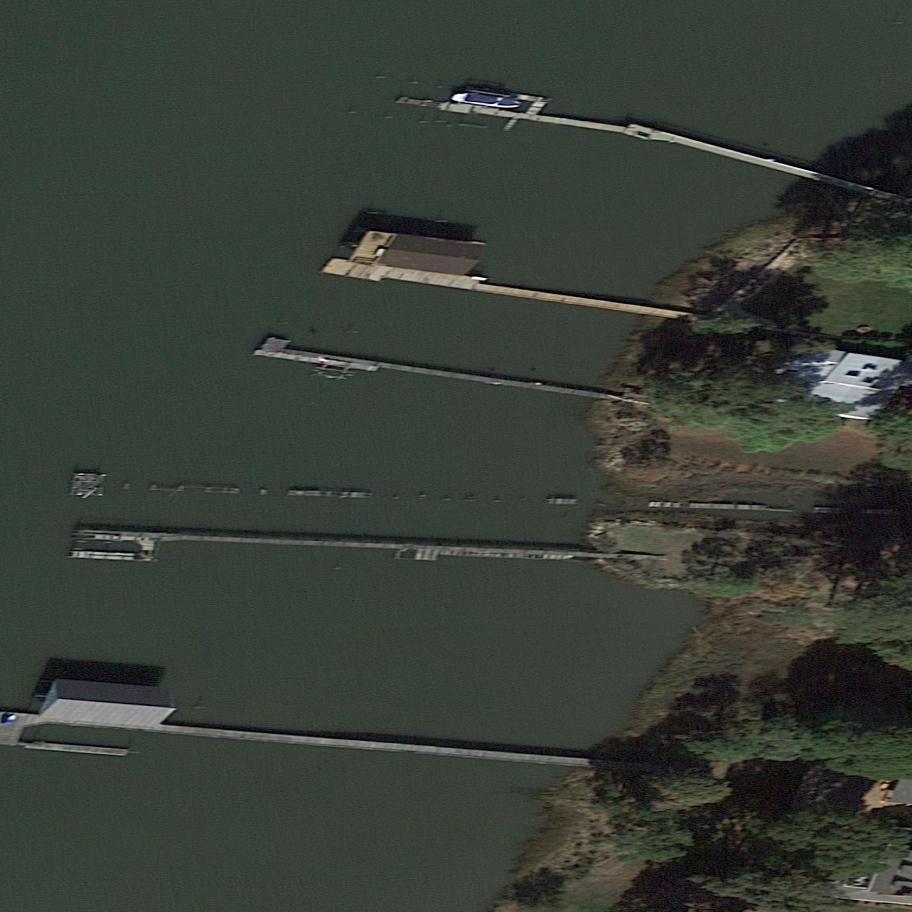ship: (447, 90, 528, 113)
